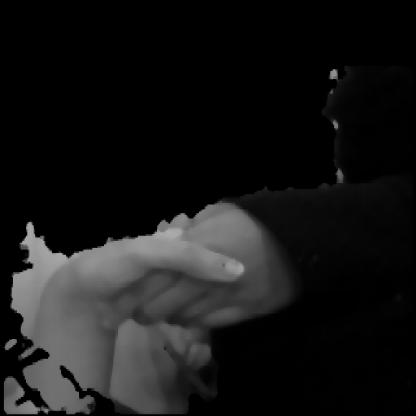handshake: (35, 192, 350, 383)
